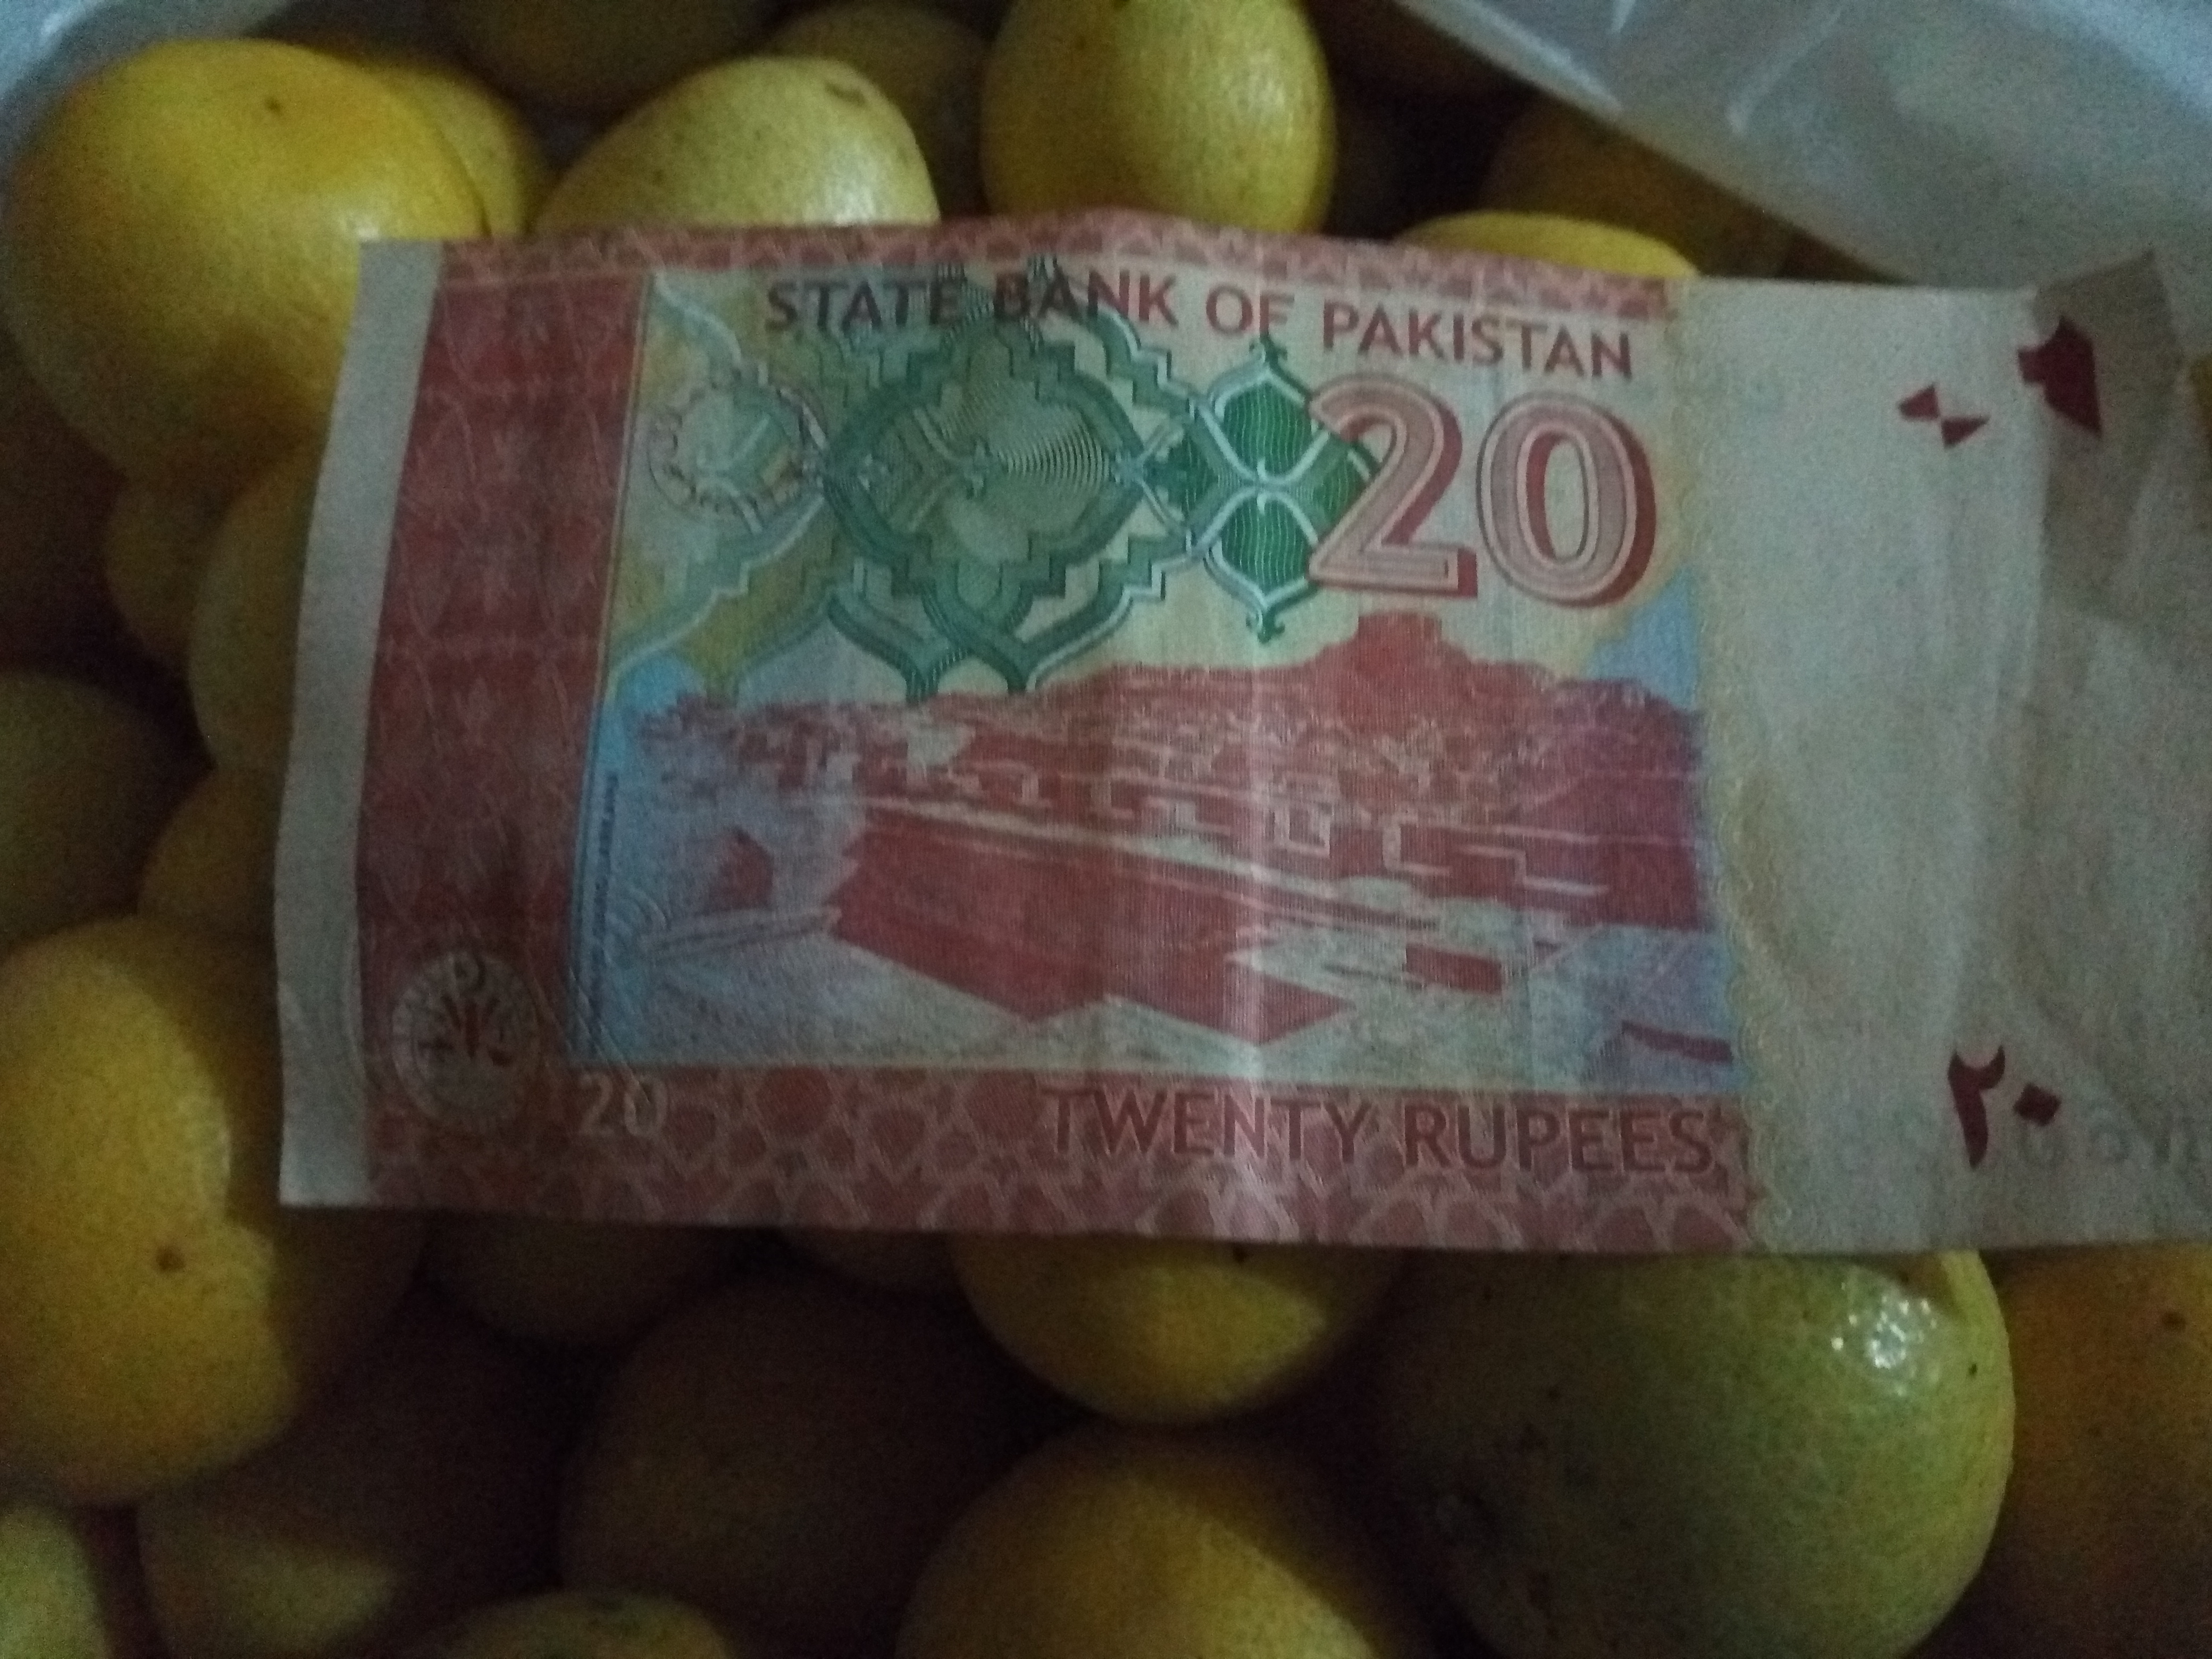20 rupee: (244, 103, 2193, 1459)
